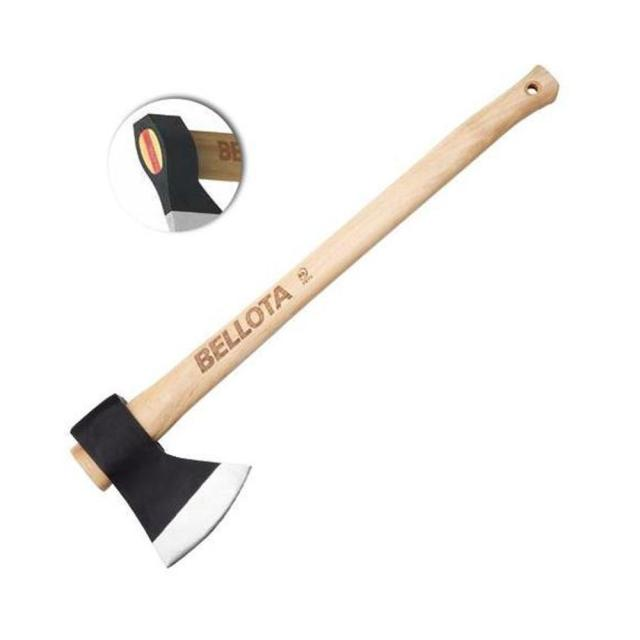Kapak: (27, 58, 555, 554)
